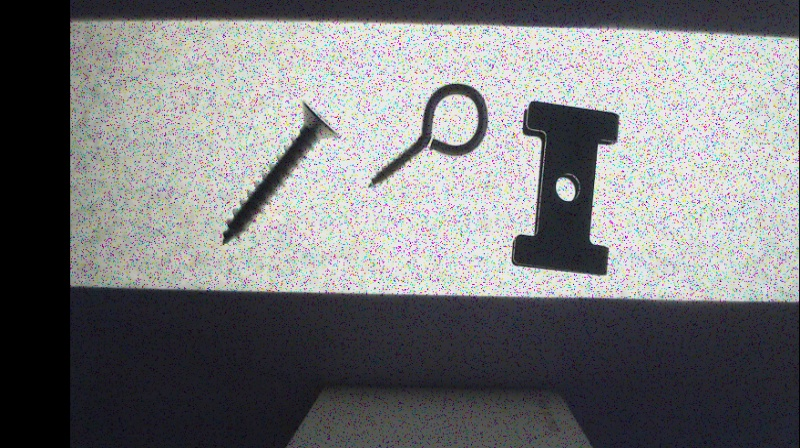O001: (365, 81, 488, 191)
O002: (509, 101, 623, 277)
S001: (220, 100, 339, 245)
